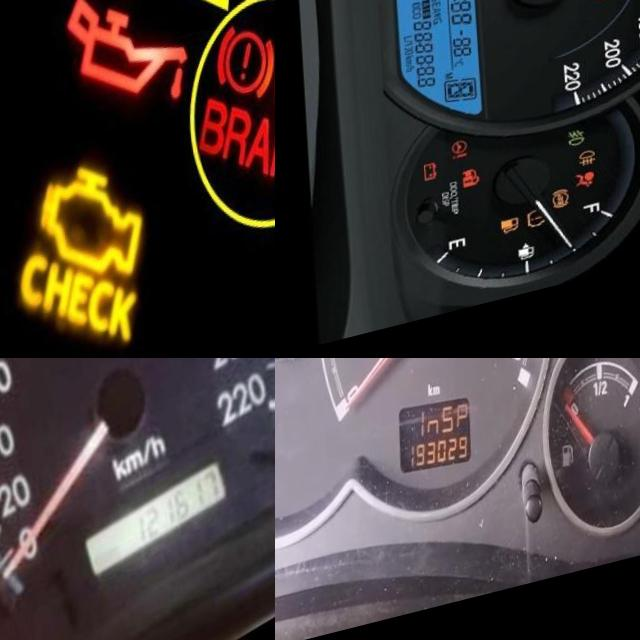Electronic Power Steering: (446, 150, 461, 172)
